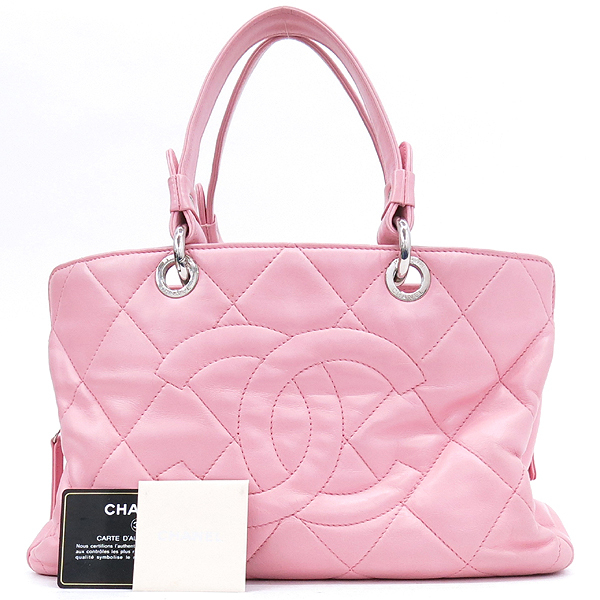channel: (3, 212, 588, 594), (137, 306, 428, 524)
